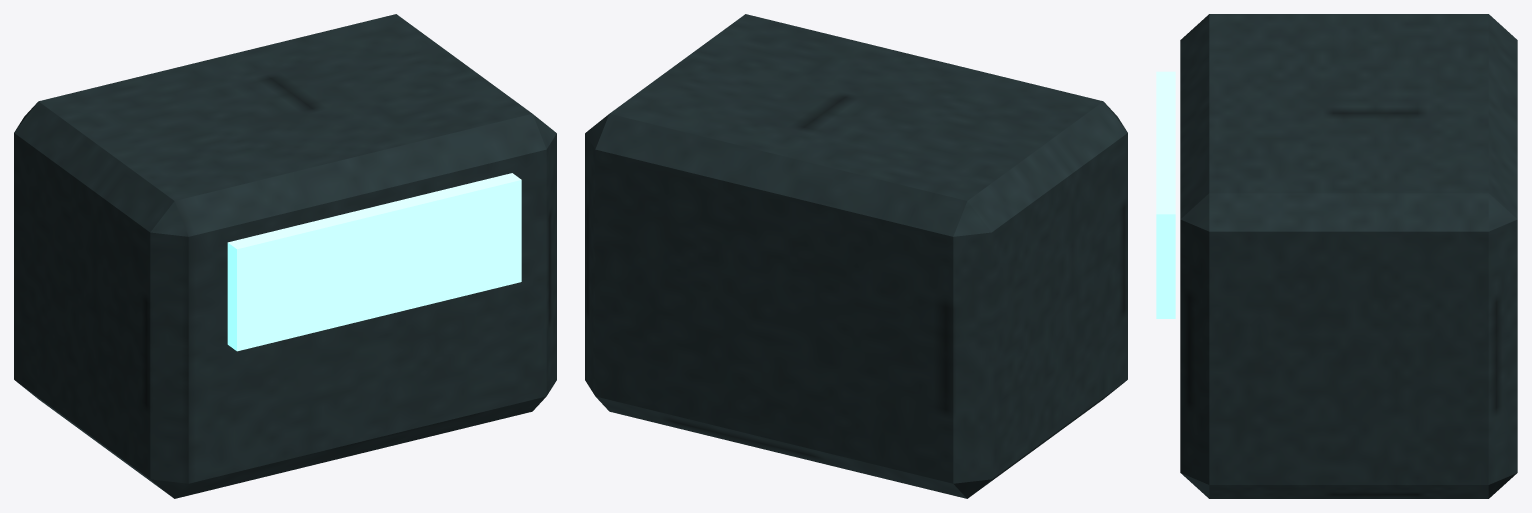
The model's file is navigation_module.glb.
The picture shows the model from 3 angles, left to right: view 1: azimuth 30°, elevation 25°; view 2: azimuth 150°, elevation 25°; view 3: azimuth 270°, elevation 25°; orthographic projection. The views are drawn at different scales.
Parts seen in each view (by area): view 1: navigation_module_metal.016, navigation_module_blue.016; view 2: navigation_module_metal.016; view 3: navigation_module_metal.016, navigation_module_blue.016.
Boxes of the visible parts, x1,y1,x2,y2 form: navigation_module_metal.016: [14, 14, 556, 498]; navigation_module_blue.016: [227, 173, 521, 351]; navigation_module_metal.016: [585, 14, 1127, 498]; navigation_module_metal.016: [1180, 14, 1517, 498]; navigation_module_blue.016: [1156, 71, 1175, 318].
Bounding box in the file's own units: 0.5 × 0.35 × 0.375.
2 materials, 1 textured.
